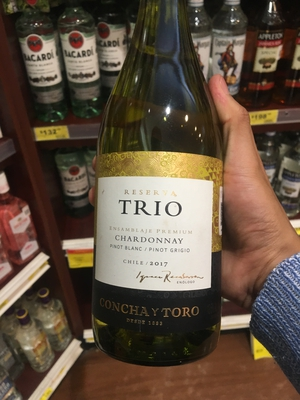trio chardonnay: (78, 19, 224, 366)
